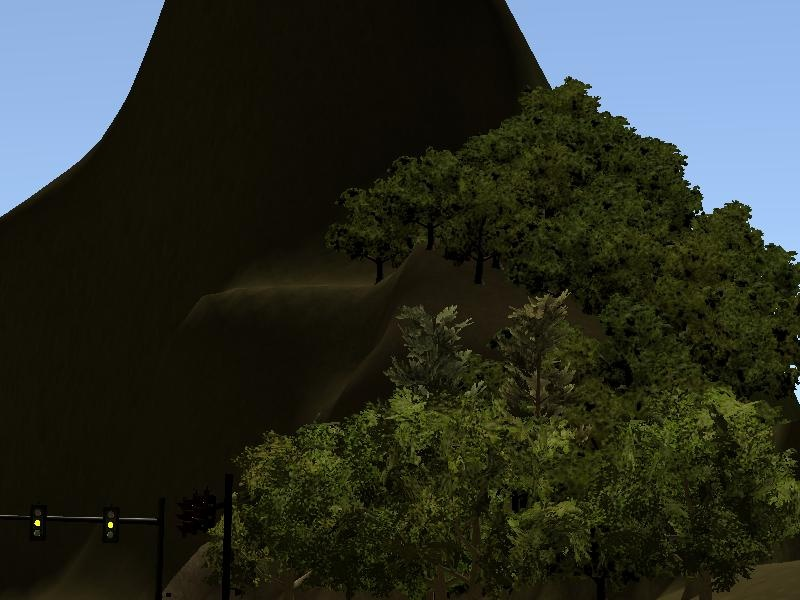YELLOW: (100, 504, 120, 544), (26, 502, 46, 541)
